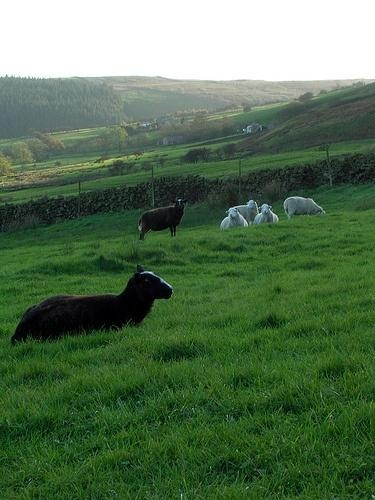sheep: (14, 265, 175, 347), (140, 199, 186, 235), (284, 196, 326, 216), (254, 204, 279, 227), (220, 210, 248, 229), (230, 201, 256, 220)
